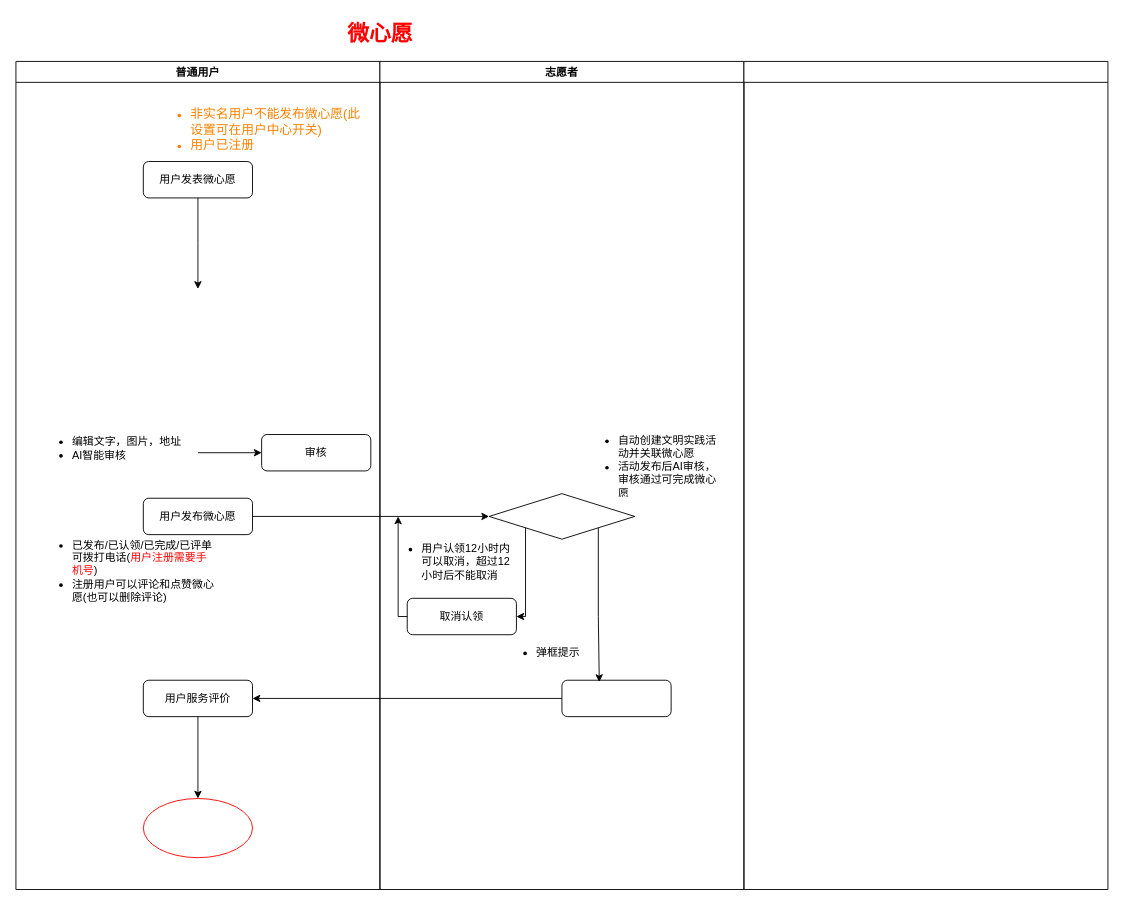
Some shapes in this 1124 by 905 pixel diagram are drawn without their labels. The shapes that lost their labels are listed below. From the top down, each one's centre as x and y in pixels, then its label:
(x=925, y=475): B端
(x=561, y=516): 志愿者认领微心愿
(x=616, y=698): 完成微心愿
(x=197, y=828): 微心愿关闭
